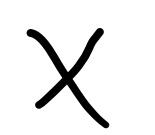mult: (27, 27, 109, 129)
